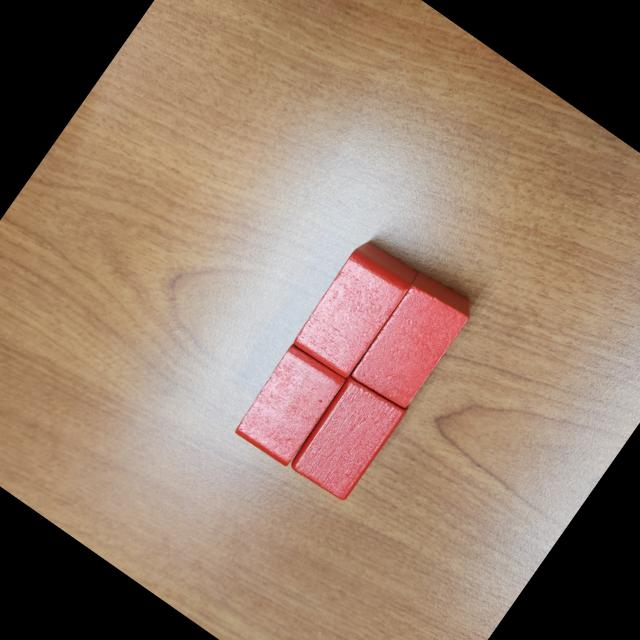red: (343, 264, 478, 414), (286, 235, 418, 382), (286, 366, 412, 506), (230, 342, 348, 469)
